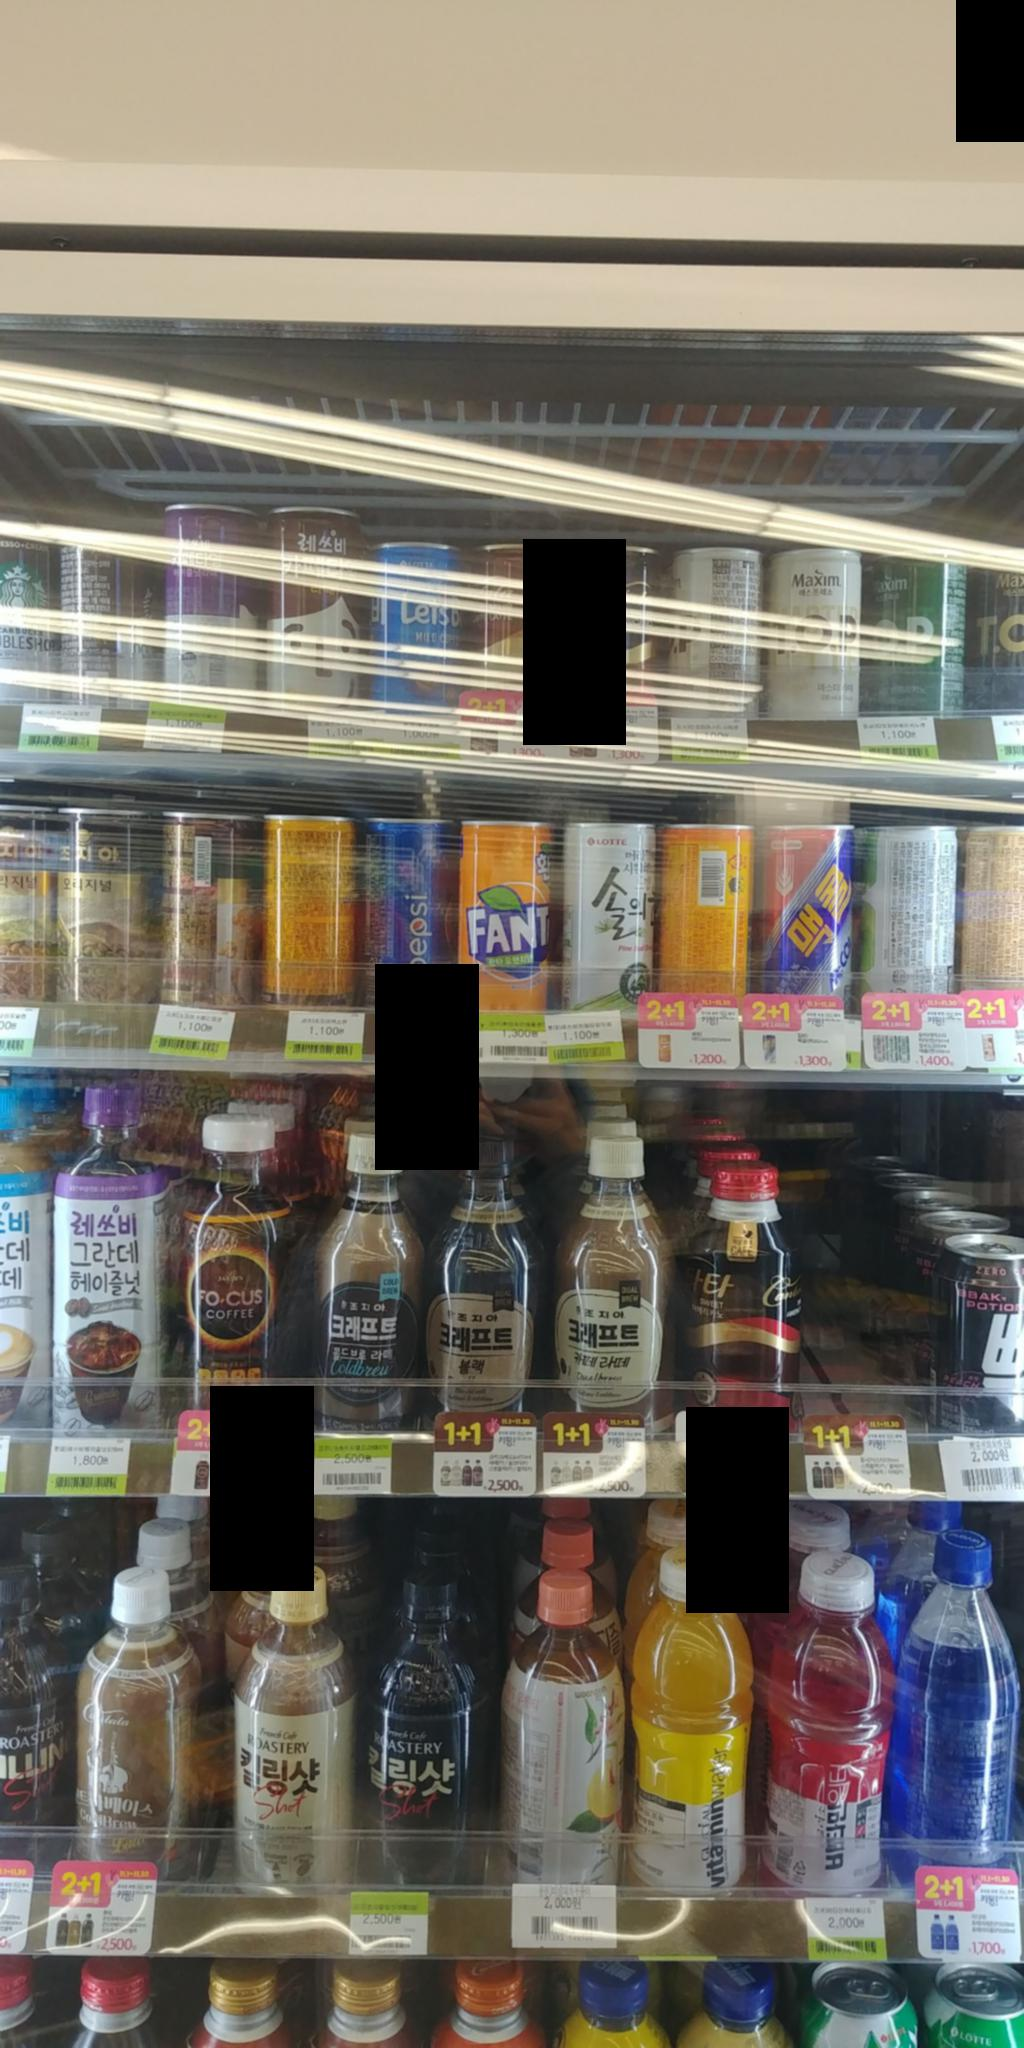georgiacraft_black: (422, 1144, 564, 1439)
letsbe: (360, 526, 465, 724)
letsbe_grande_hazelnut: (43, 1061, 178, 1435)
